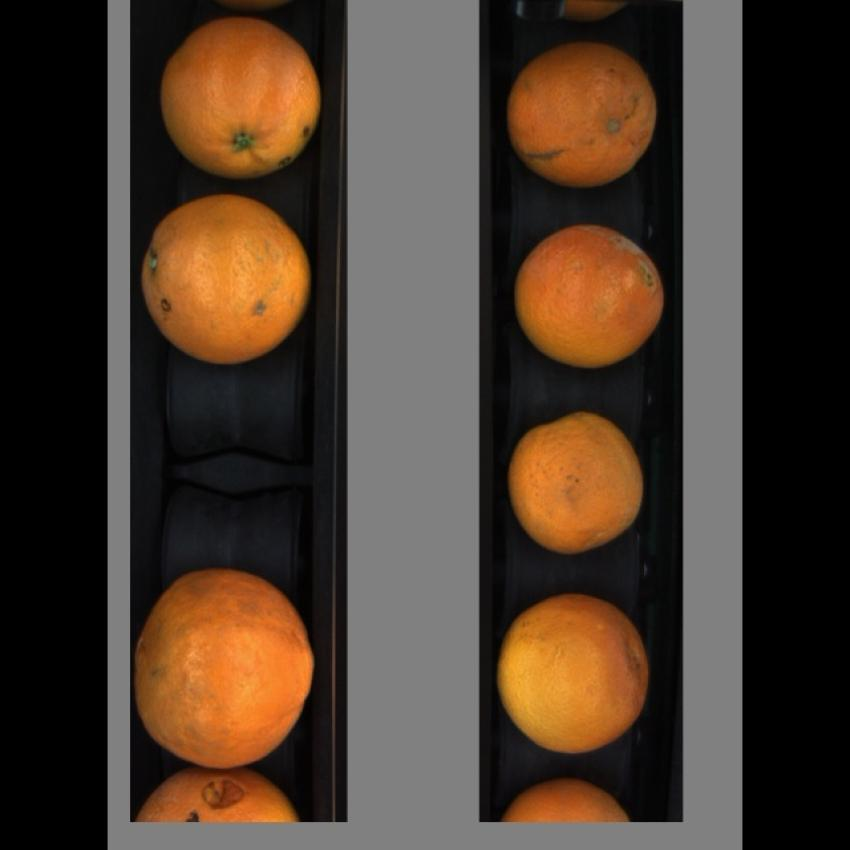Mal estado: (134, 561, 316, 767), (139, 195, 316, 364), (150, 17, 327, 177), (493, 593, 658, 756), (503, 33, 666, 192), (510, 221, 673, 367), (506, 414, 649, 554), (138, 763, 302, 820), (504, 773, 644, 822)
